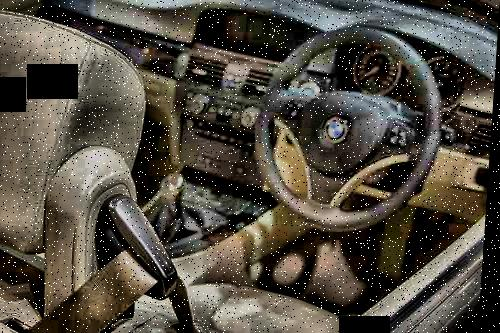seatbelt: (24, 243, 229, 333)
